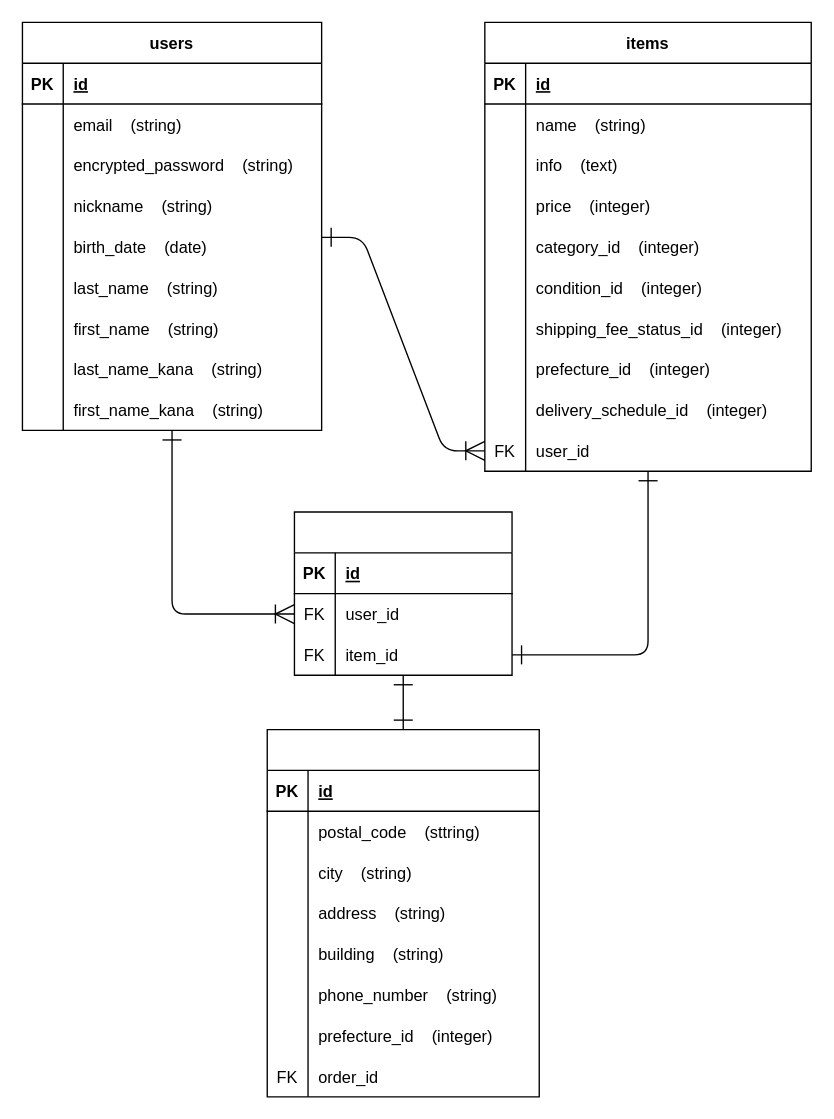
This 834x1119 diagram has some shape labels left out. The box of each missing label's shape, as (x1, y1, x2, y2) in pixels:
delivery_addresses: (266, 728, 539, 1097)
orders: (293, 511, 512, 675)
